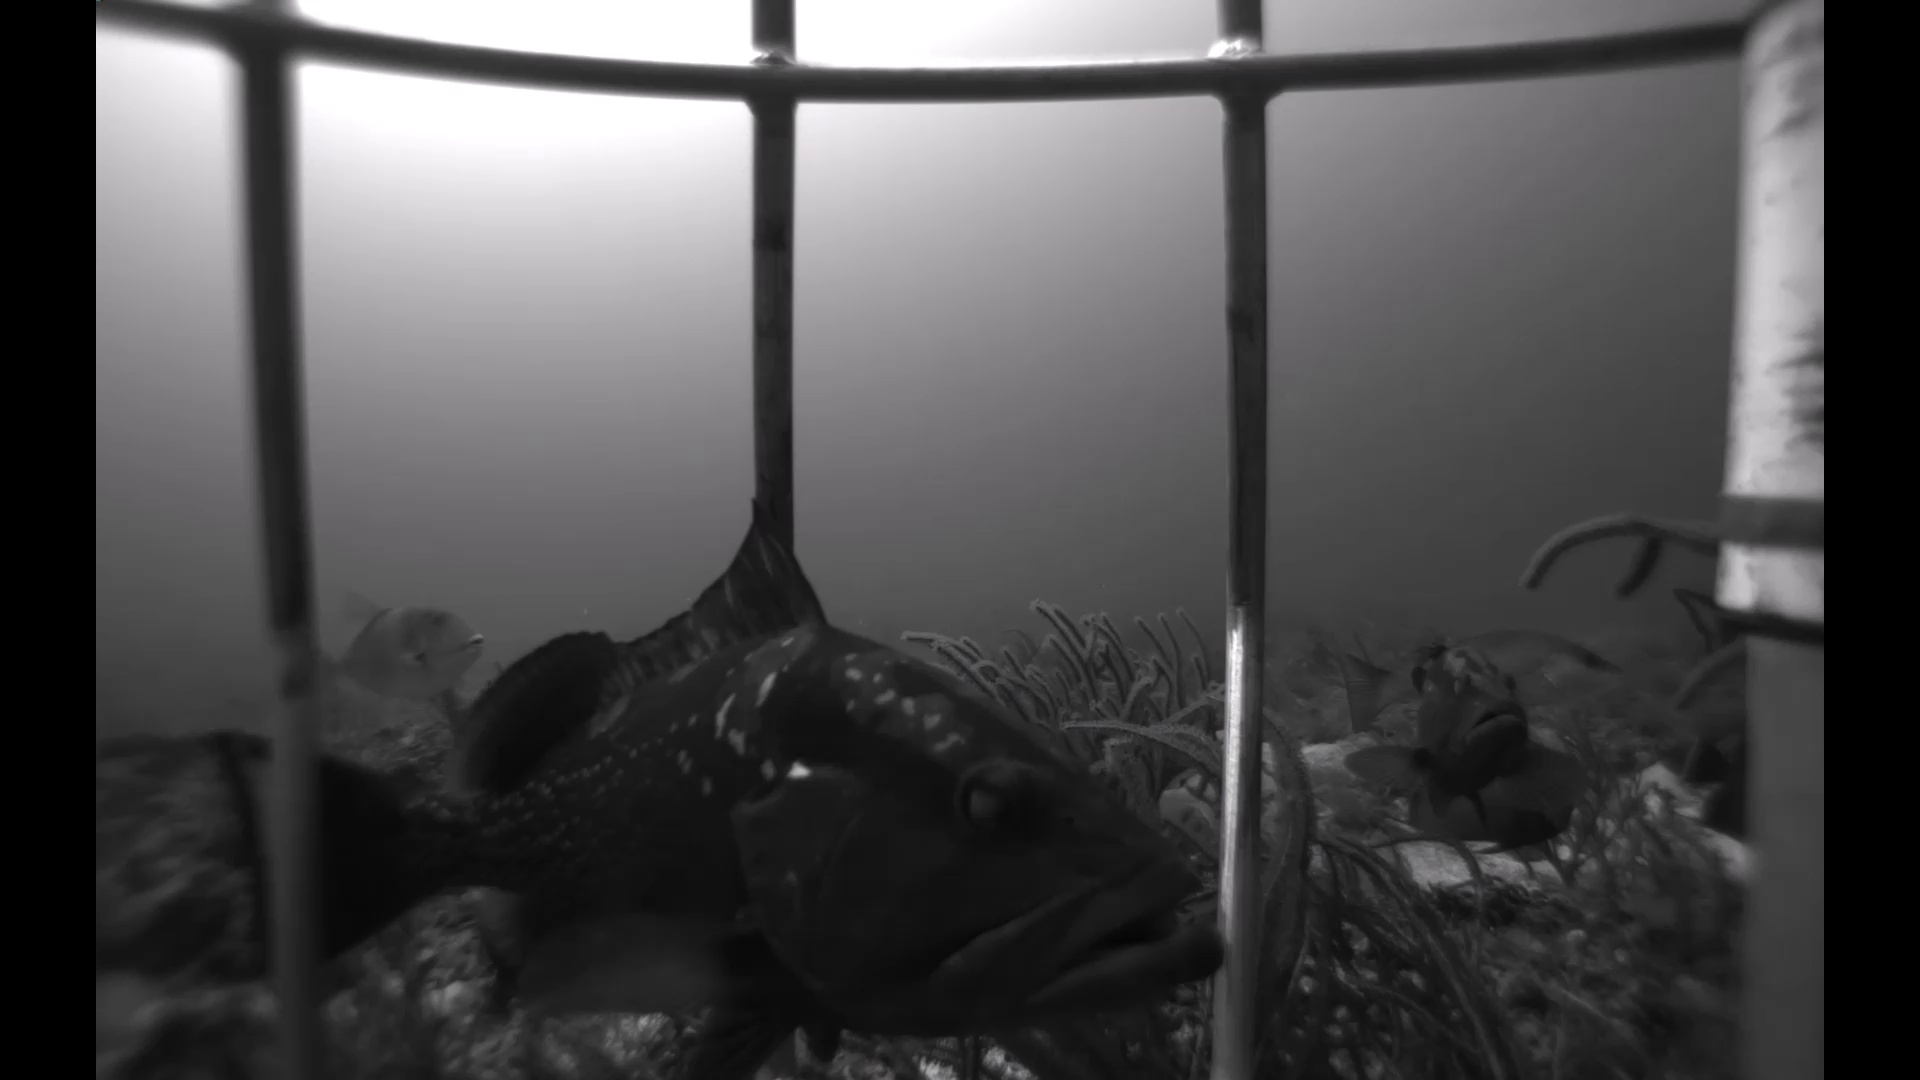BALISTESCAPRISCUS-189030502: (314, 575, 495, 717)
EPINEPHELUSMORIO-170021211: (179, 498, 1233, 1080), (1336, 634, 1560, 824), (1665, 568, 1753, 665)
LACHNOLAIMUSMAXIMUS-170281801: (1135, 750, 1356, 853)
LUTJANUSGRISEUS-170151109: (1316, 611, 1647, 735)
POMACANTHUSARCUATUS-170290201: (1385, 744, 1586, 858), (1659, 700, 1745, 849)
